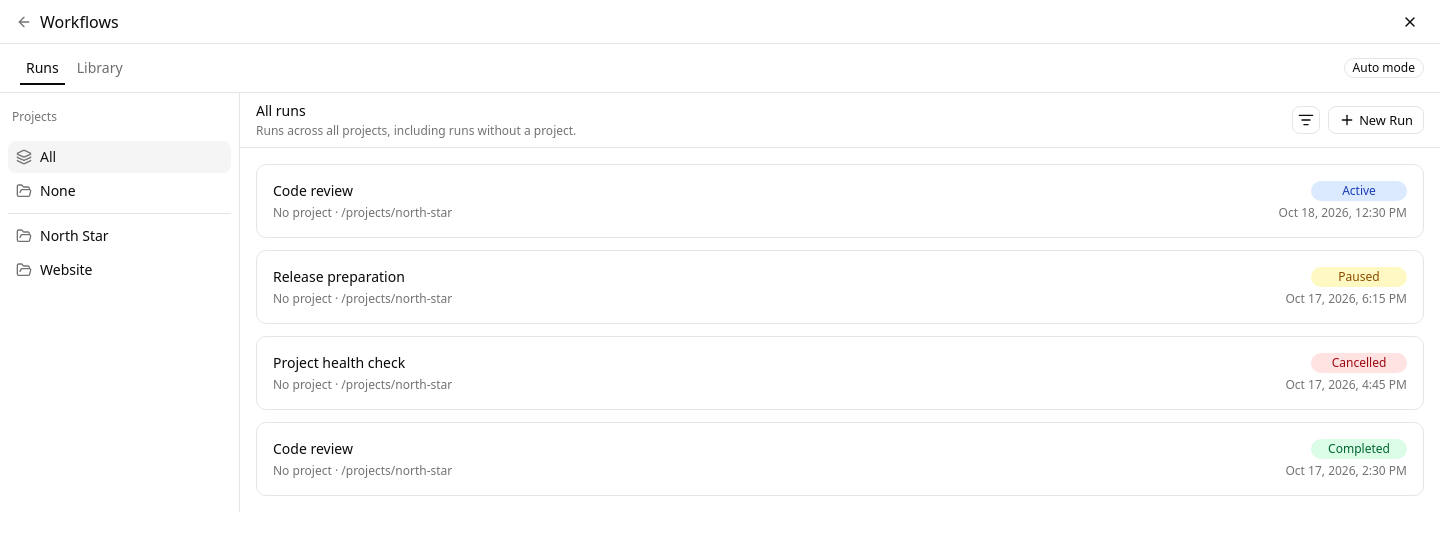
Test case: shows clearly labeled workflow preview cards with enabled run shortcuts
Press the mouse on the tab "Library" at (100, 68), box [70,56,130,80]
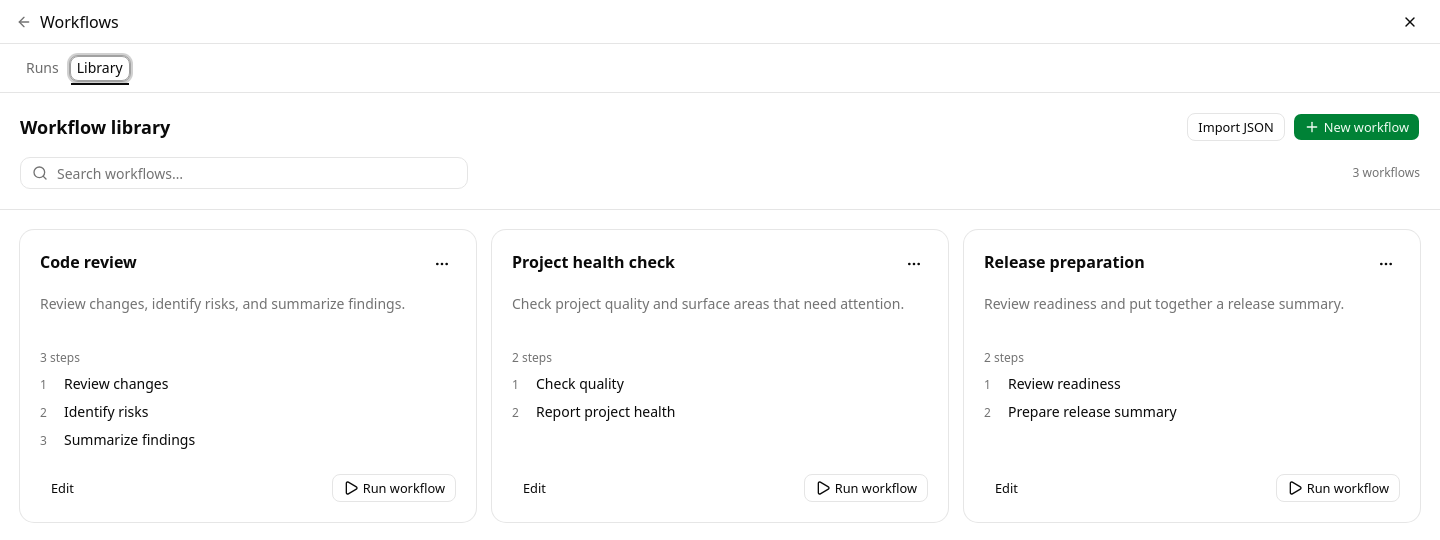
Check: the navigation bar is gone
Check: the text "Workflow library" is shown, box [20,113,170,141]
